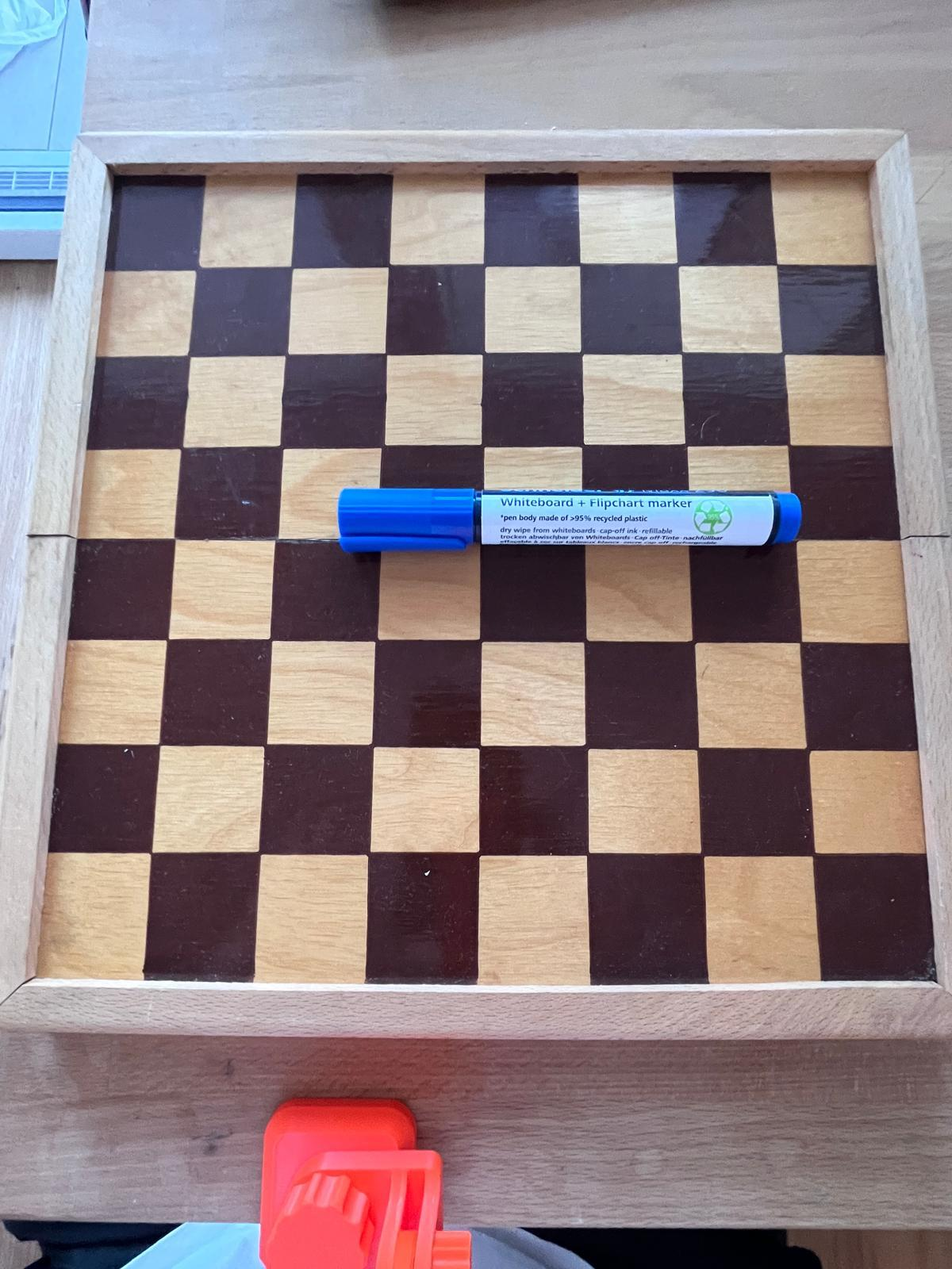marker: (335, 482, 800, 554)
